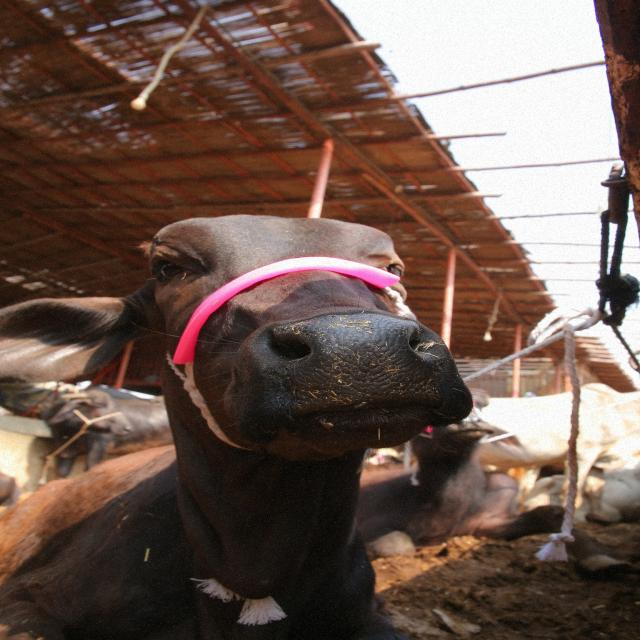muzzles: (249, 314, 458, 426)
